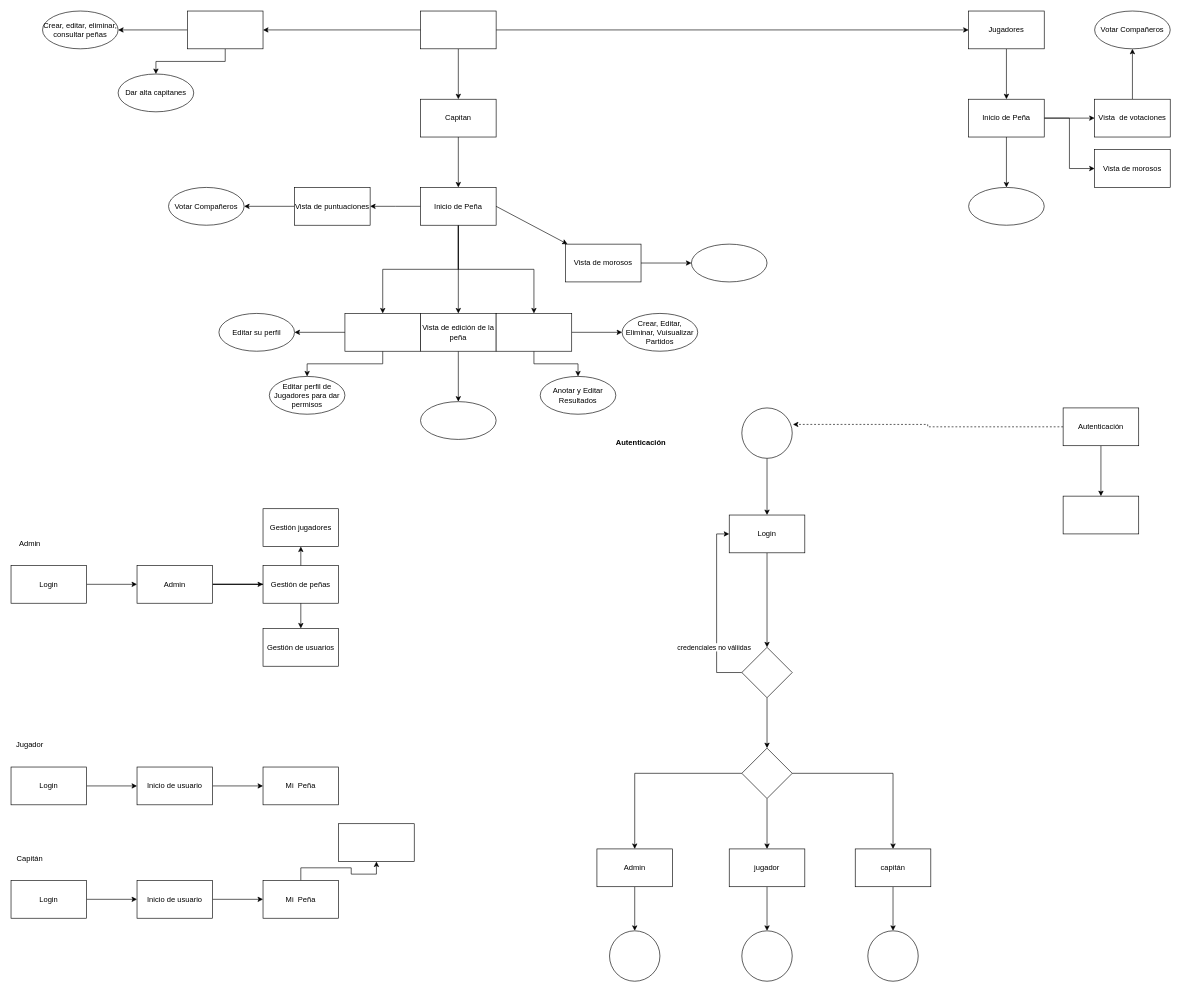
This 1181x992 diagram has some shape labels left out. The shapes that lost their labels are listed below. From the top down, each one's centre as x and y in pixels, then its label:
point 225,29: Panel de Admin
point 458,29: Inicio/Login
point 1006,206: Editar su perfiil
point 729,262: Crear, editar, visualizar, eliminar lista de morosos
point 382,332: Vista de Miembros
point 533,332: Vista de partidos
point 458,420: Editar la Peña
point 1100,514: Convocar Partido
point 766,672: autenticar
point 766,773: rol
point 376,842: Editar Peña
